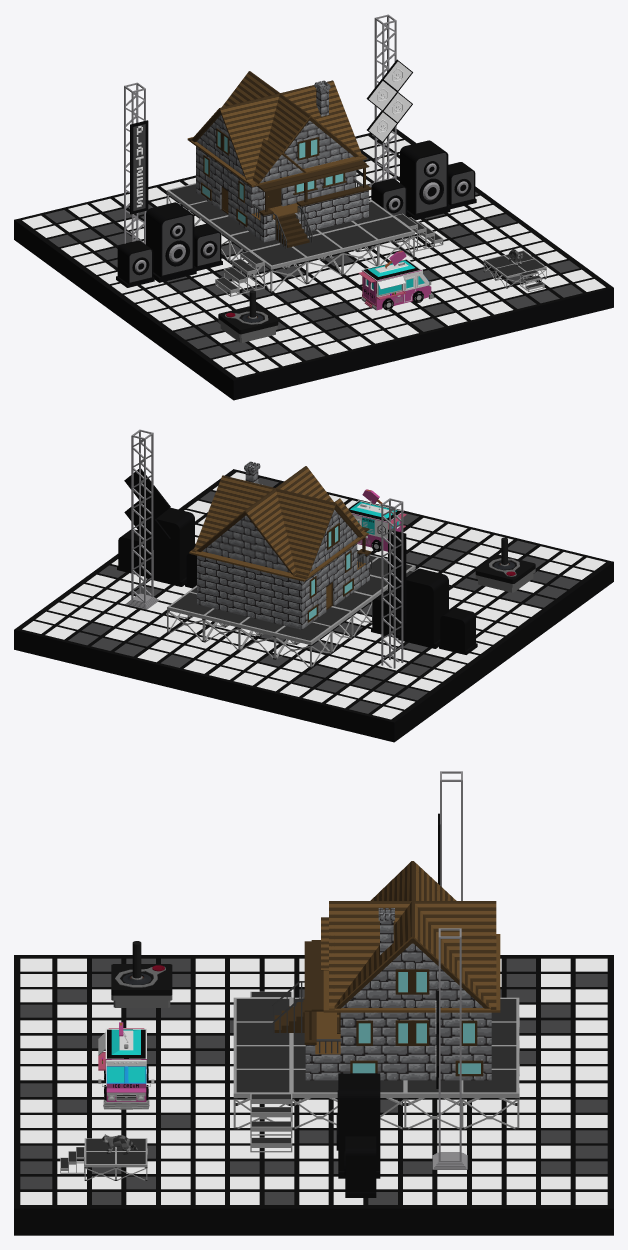
3 views of the same model, one above another, from view 1: azimuth 30°, elevation 25°; view 2: azimuth 150°, elevation 25°; view 3: azimuth 270°, elevation 25° (orthographic). The views are drawn at different scales.
Parts seen in each view (by area): view 1: Cube.008, Cube.586, VEHICLES_ICE_CREAM_TRUCK, OBJRANDOM_JOYSTICK; view 2: Cube.008, Cube.586, OBJRANDOM_JOYSTICK, VEHICLES_ICE_CREAM_TRUCK; view 3: Cube.008, Cube.586, VEHICLES_ICE_CREAM_TRUCK, OBJRANDOM_JOYSTICK.
Part boxes in pixels (x1,y1,x2,y2): Cube.008: (14,14,613,400); Cube.586: (187,71,371,248); VEHICLES_ICE_CREAM_TRUCK: (358,250,434,310); OBJRANDOM_JOYSTICK: (218,290,278,342); Cube.008: (14,429,613,742); Cube.586: (189,461,372,629); OBJRANDOM_JOYSTICK: (475,537,535,592); VEHICLES_ICE_CREAM_TRUCK: (348,489,406,551); Cube.008: (14,771,613,1235); Cube.586: (272,861,500,1080); VEHICLES_ICE_CREAM_TRUCK: (98,1022,154,1109); OBJRANDOM_JOYSTICK: (111,941,172,1007).
Size of the model in its own units: 4000 by 2124 by 4000.
45 materials, 2 textured.
